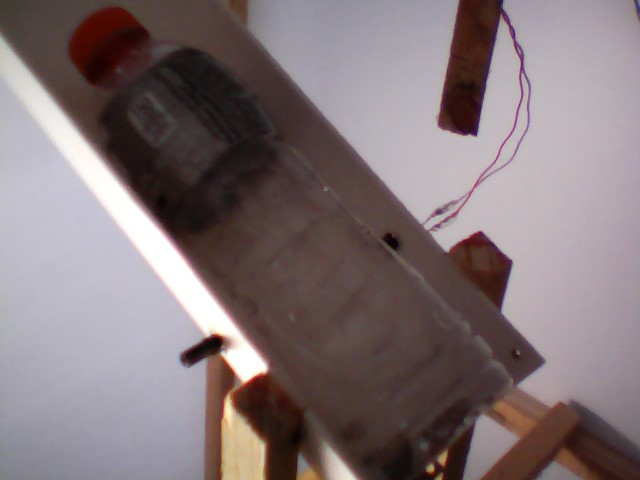plastico: (60, 4, 523, 480)
